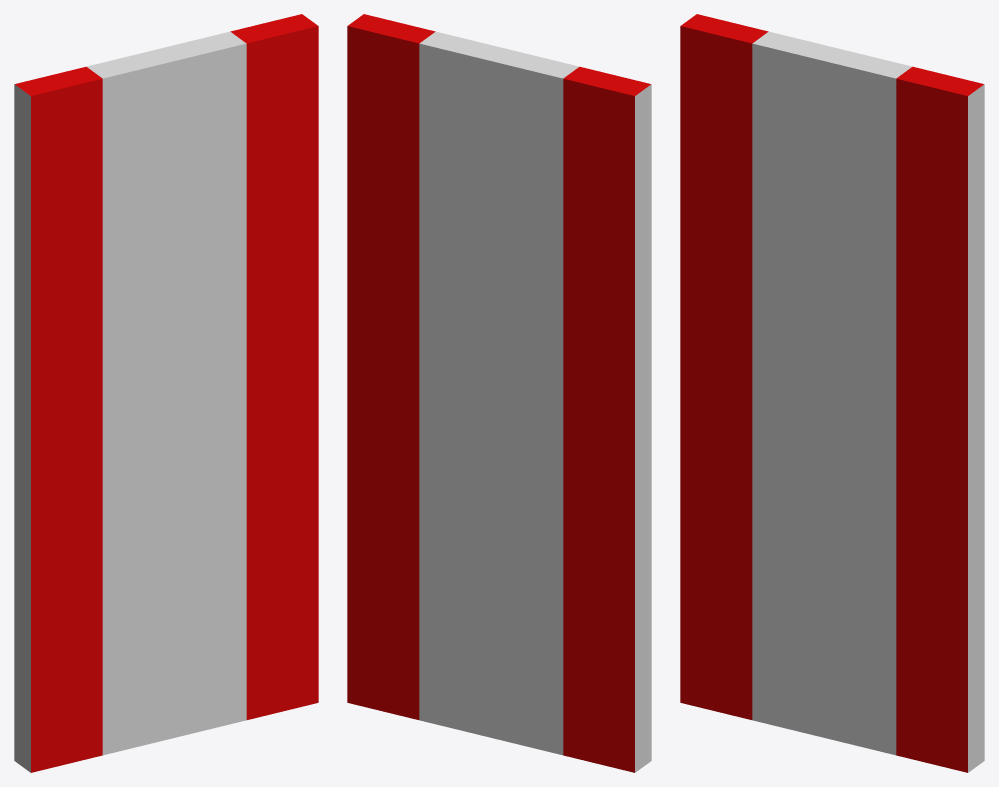
Rendered from Keycard.fbx.
3 views of the same model, side by side, from view 1: azimuth 30°, elevation 25°; view 2: azimuth 150°, elevation 25°; view 3: azimuth 330°, elevation 25° (orthographic).
Visible parts, largest first — view 1: Cube.051; view 2: Cube.051; view 3: Cube.051.
Boxes of the visible parts, x1=… form: Cube.051: x1=14, y1=14, x2=318, y2=772; Cube.051: x1=347, y1=14, x2=651, y2=772; Cube.051: x1=680, y1=14, x2=984, y2=772.
Size of the model in its own units: 10.98 by 24.68 by 1.09.
